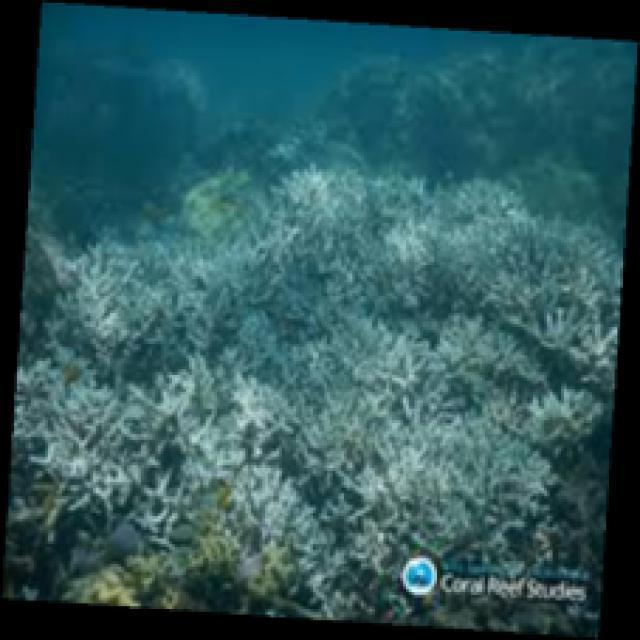Dead Coral: (6, 236, 241, 542), (257, 357, 607, 556), (283, 164, 606, 355)
